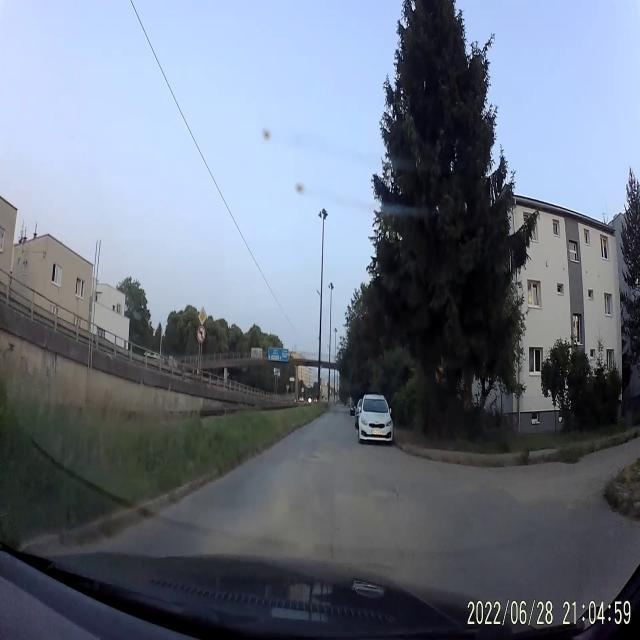Pothole: (364, 481, 399, 509), (302, 450, 320, 463)
